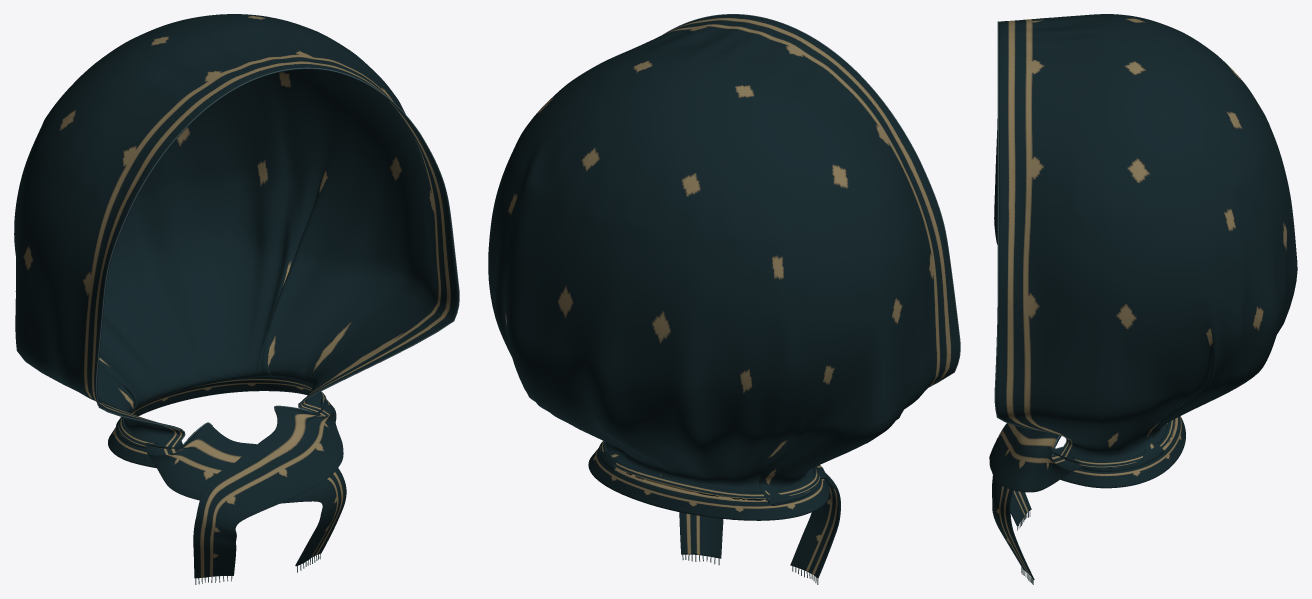
The model's file is Feminine-tshirt-pashmina238-headgear.glb.
3 views of the same model, side by side, from view 1: azimuth 30°, elevation 25°; view 2: azimuth 150°, elevation 25°; view 3: azimuth 270°, elevation 25° (orthographic). The views are drawn at different scales.
Visible parts, largest first — view 1: 226 headgear / Headwear / continuous woven pashmina238, 226 headgear / Headwear / face edge238; view 2: 226 headgear / Headwear / continuous woven pashmina238, 226 headgear / Headwear / face edge238; view 3: 226 headgear / Headwear / continuous woven pashmina238, 226 headgear / Headwear / face edge238.
Boxes of the visible parts, <box> form: 226 headgear / Headwear / continuous woven pashmina238: <box>14,14,458,578</box>; 226 headgear / Headwear / face edge238: <box>95,67,459,445</box>; 226 headgear / Headwear / continuous woven pashmina238: <box>488,14,959,578</box>; 226 headgear / Headwear / face edge238: <box>663,14,960,387</box>; 226 headgear / Headwear / continuous woven pashmina238: <box>989,14,1297,580</box>; 226 headgear / Headwear / face edge238: <box>994,21,1067,449</box>.
Size of the model in its own units: 1.02 by 1.35 by 0.7228.
3 materials, 1 textured.
